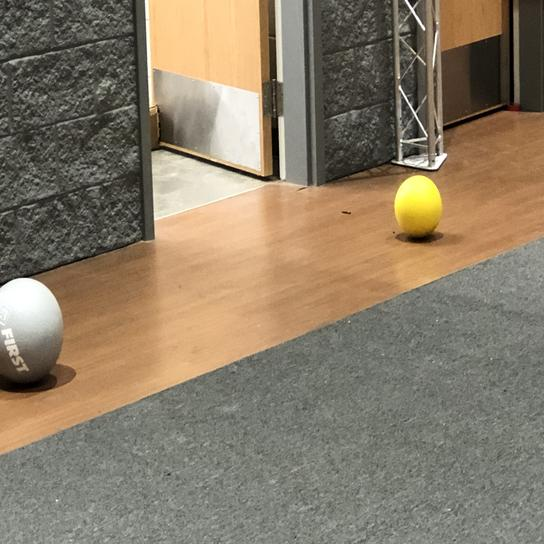ball: (389, 174, 445, 240)
